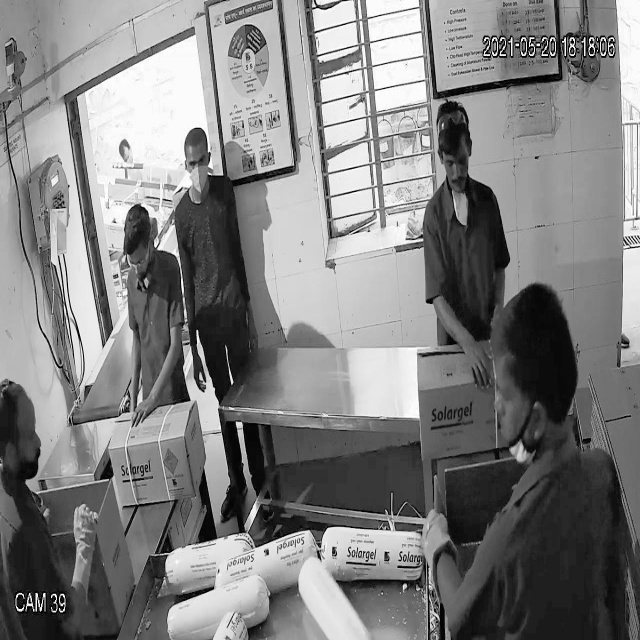Gafas: (123, 244, 158, 270)
Sin_gafas: (435, 147, 474, 173), (182, 150, 215, 174)
